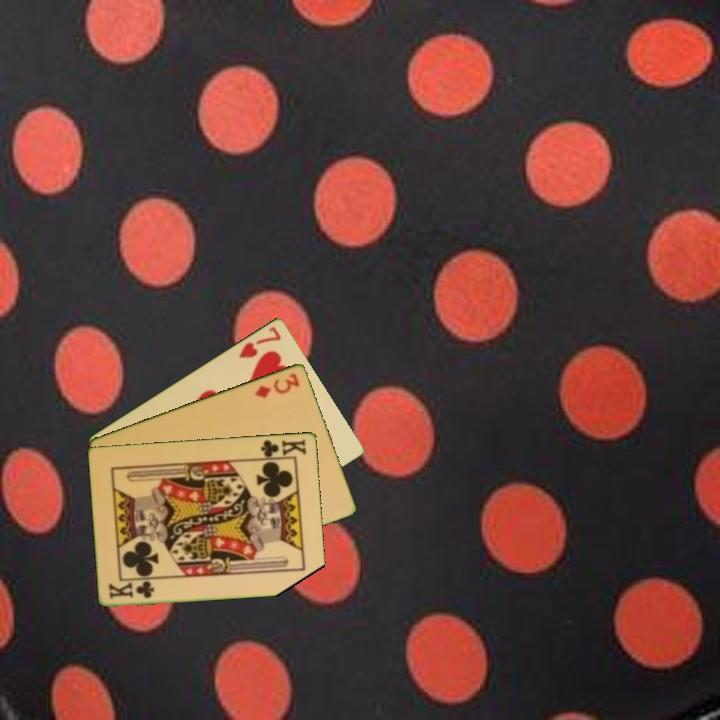3d: (251, 369, 303, 401)
7h: (235, 322, 284, 361)
Kc: (255, 435, 309, 461), (105, 578, 157, 601)
